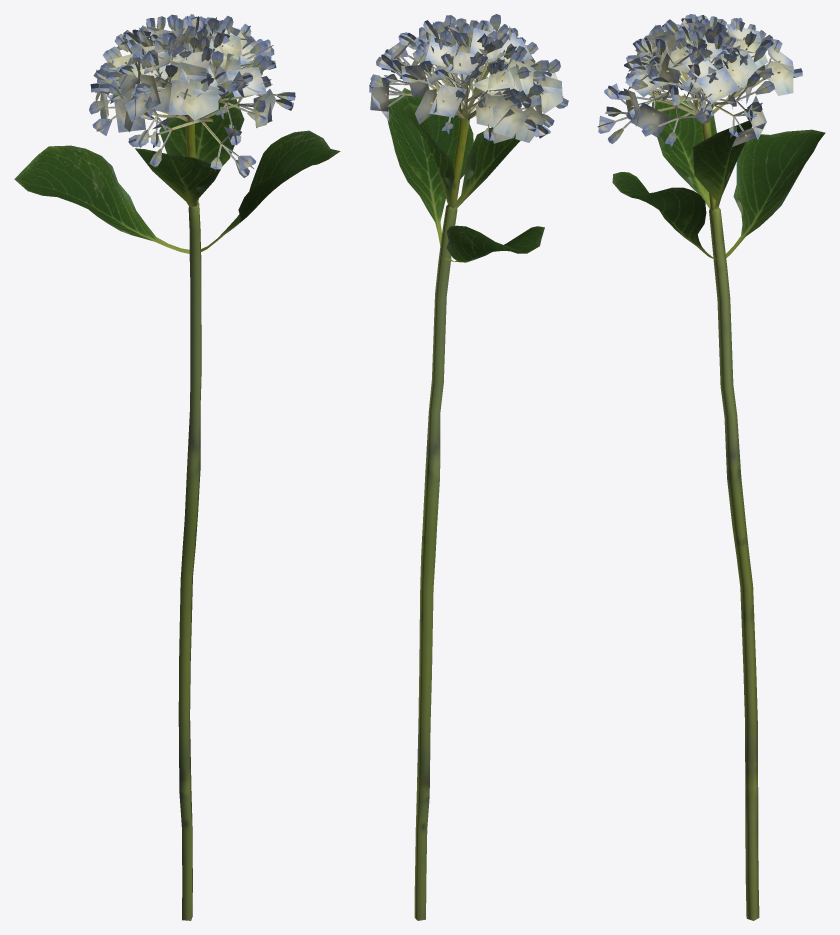
Rendered from Hydrangea_baby_long_lightblue.glb.
3 renders of one model, left to right at view 1: azimuth 30°, elevation 25°; view 2: azimuth 150°, elevation 25°; view 3: azimuth 270°, elevation 25°, orthographic. The views are drawn at different scales.
Visible parts, largest first — view 1: BABY; view 2: BABY; view 3: BABY.
Boxes of the visible parts, x1,y1,x2,y2 form: BABY: (14, 14, 340, 920); BABY: (369, 14, 568, 920); BABY: (597, 14, 825, 920).
Bounding box in the file's own units: 0.7928 × 3.08 × 0.7195.
1 material, 1 textured.
